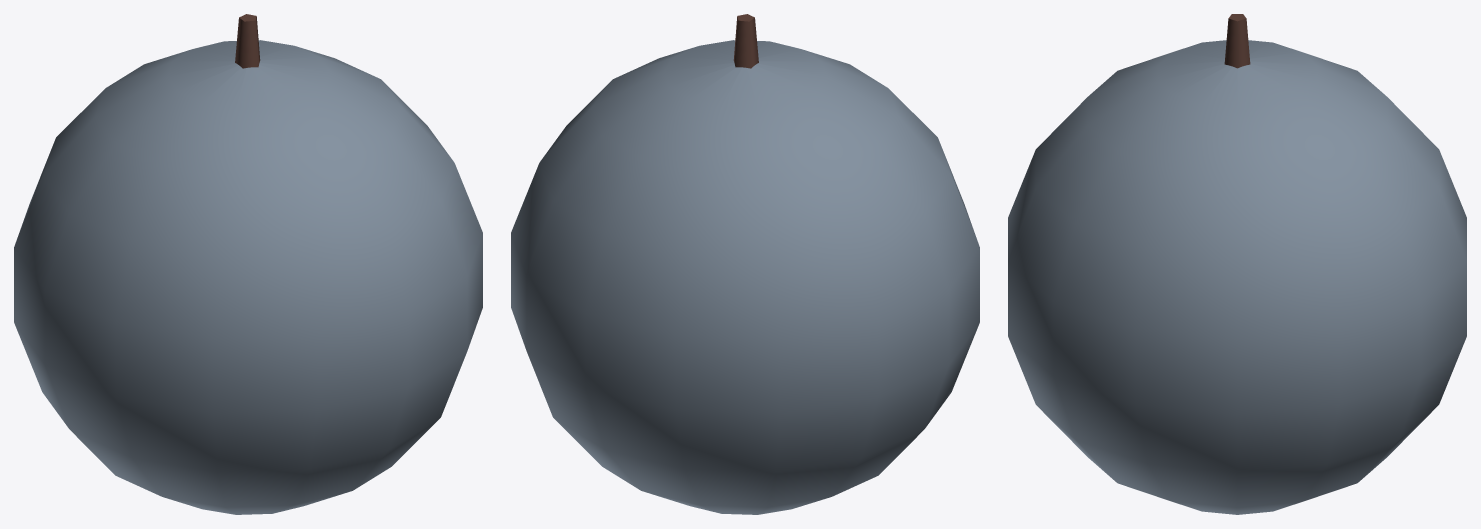
The model's file is fruit-coconut-chilled.gltf.
The picture shows the model from 3 angles, left to right: view 1: azimuth 30°, elevation 25°; view 2: azimuth 150°, elevation 25°; view 3: azimuth 270°, elevation 25°; orthographic projection.
Size of the model in its own units: 0.5515 by 0.616 by 0.5377.
